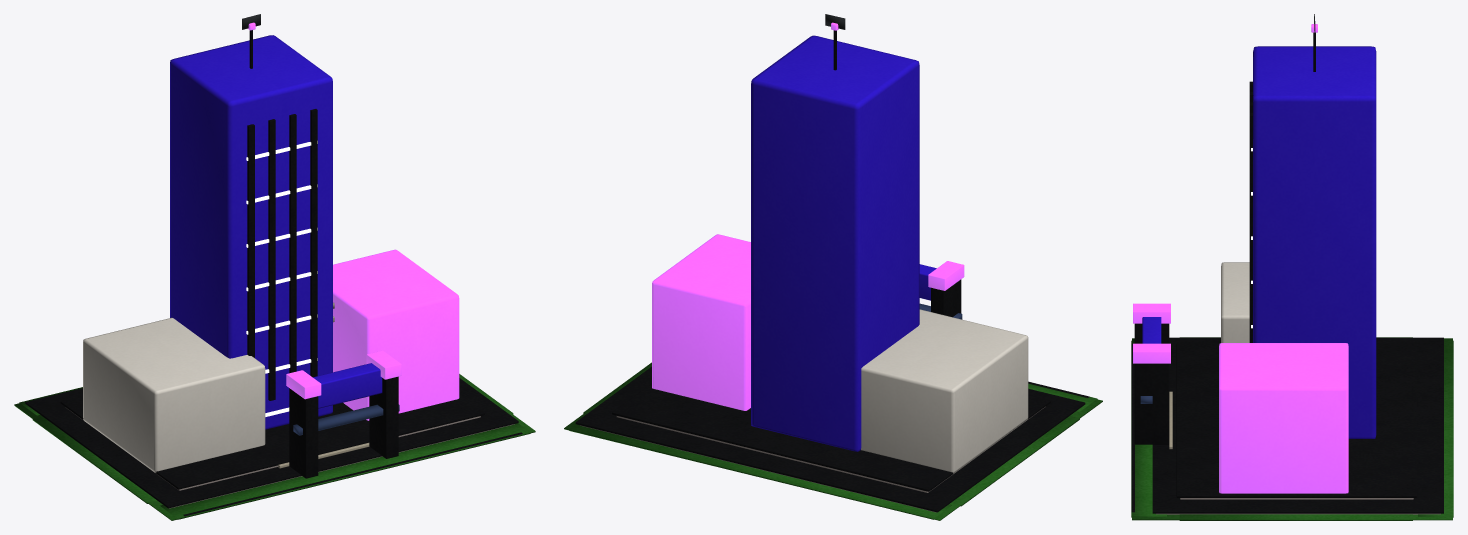
The model's file is pack.agentspace.building.test.orbit.hq.01.glb.
The picture shows the model from 3 angles, left to right: view 1: azimuth 30°, elevation 25°; view 2: azimuth 150°, elevation 25°; view 3: azimuth 270°, elevation 25°; orthographic projection. The views are drawn at different scales.
Visible parts, largest first — view 1: landmark.shaft, base.west, base.east, site.podium.lip.005, podium.lip.003, site.berm.s.005, entrance.col.l.003, landmark.fin.fin.1, landmark.fin.fin.3, entrance.arch.002, landmark.fin.fin.2, entrance.col.r.003 (+6 smaller); view 2: landmark.shaft, base.west, base.east, site.podium.lip.005, podium.lip.003, site.berm.n.005, site.berm.w.005, entrance.col.l.003, entrance.col.l.cap.002, podium.body.003; view 3: landmark.shaft, base.east, podium.lip.003, site.podium.lip.005, entrance.col.r.003, base.west, site.berm.n.005, site.berm.e.005, site.berm.s.005, landmark.fin.fin.3, entrance.col.r.cap.002, entrance.col.l.cap.002 (+5 smaller).
Boxes of the visible parts, left/top/right/bottom form: landmark.shaft: left=170, top=35, right=332, bottom=429; base.west: left=83, top=317, right=265, bottom=472; base.east: left=333, top=249, right=459, bottom=420; site.podium.lip.005: left=25, top=378, right=518, bottom=508; podium.lip.003: left=60, top=394, right=484, bottom=489; site.berm.s.005: left=160, top=423, right=530, bottom=519; entrance.col.l.003: left=289, top=388, right=318, bottom=478; landmark.fin.fin.1: left=268, top=119, right=275, bottom=400; landmark.fin.fin.3: left=310, top=109, right=317, bottom=377; entrance.arch.002: left=313, top=363, right=382, bottom=408; landmark.fin.fin.2: left=289, top=114, right=296, bottom=373; entrance.col.r.003: left=369, top=376, right=398, bottom=458; landmark.shaft: left=751, top=35, right=919, bottom=451; base.west: left=861, top=309, right=1028, bottom=473; base.east: left=652, top=234, right=750, bottom=410; site.podium.lip.005: left=575, top=366, right=1085, bottom=512; podium.lip.003: left=612, top=383, right=1050, bottom=491; site.berm.n.005: left=569, top=424, right=951, bottom=519; site.berm.w.005: left=951, top=416, right=1079, bottom=506; entrance.col.l.003: left=931, top=279, right=961, bottom=317; entrance.col.l.cap.002: left=928, top=261, right=964, bottom=290; podium.body.003: left=616, top=406, right=1045, bottom=492; landmark.shaft: left=1253, top=46, right=1376, bottom=438; base.east: left=1219, top=343, right=1348, bottom=493; podium.lip.003: left=1176, top=343, right=1416, bottom=497; site.podium.lip.005: left=1152, top=337, right=1443, bottom=513; entrance.col.r.003: left=1134, top=363, right=1169, bottom=444; base.west: left=1221, top=262, right=1249, bottom=342; site.berm.n.005: left=1418, top=340, right=1453, bottom=517; site.berm.e.005: left=1179, top=514, right=1412, bottom=520; site.berm.s.005: left=1131, top=340, right=1166, bottom=517; landmark.fin.fin.3: left=1249, top=112, right=1252, bottom=342; entrance.col.r.cap.002: left=1133, top=343, right=1170, bottom=363; entrance.col.l.cap.002: left=1133, top=303, right=1170, bottom=323.
Bounding box in the file's own units: 39.84 × 41.34 × 29.84.
Materials: 11 (9 with a texture image).
